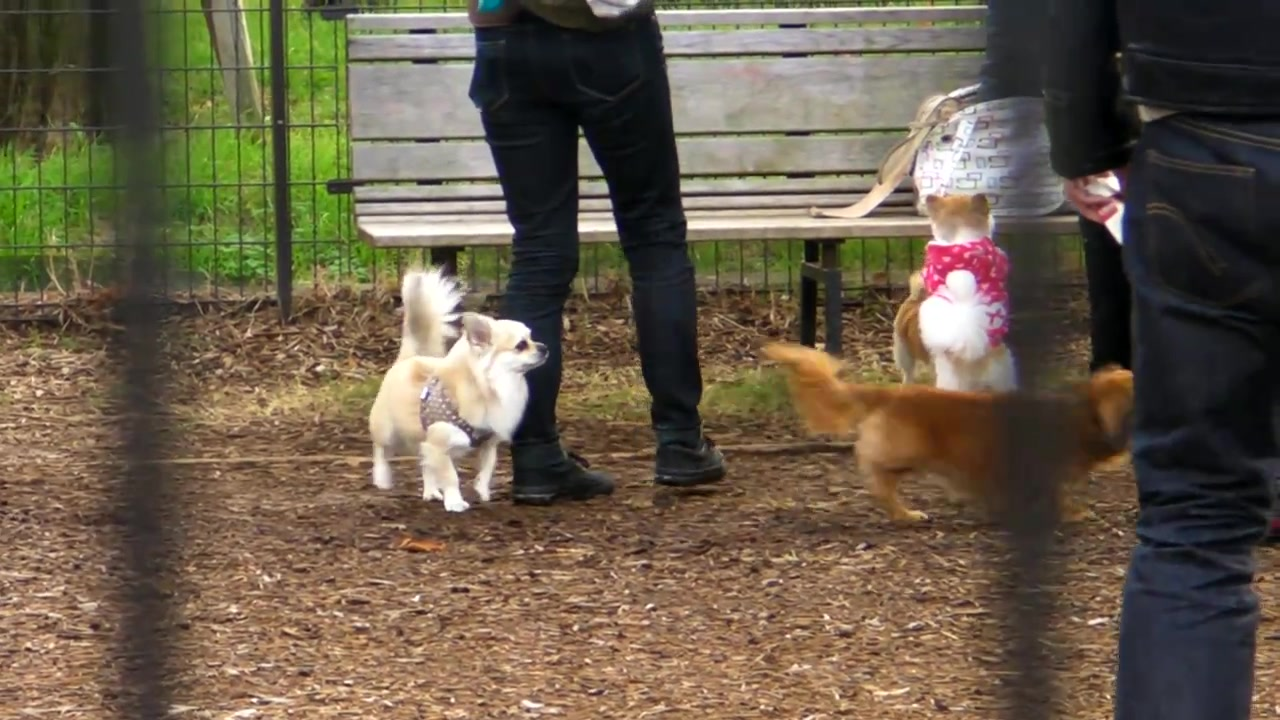dog: (369, 262, 552, 515)
